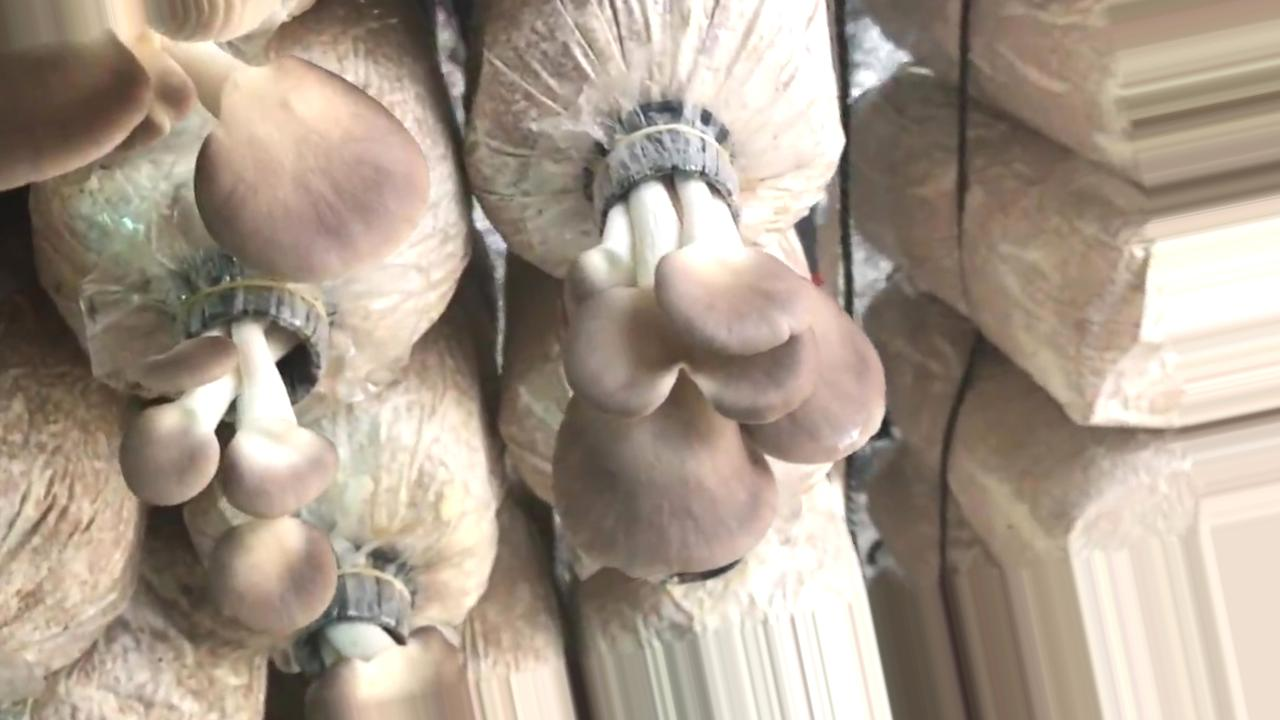nam: (552, 128, 881, 571), (2, 1, 430, 279), (119, 288, 338, 627), (272, 575, 465, 720)
